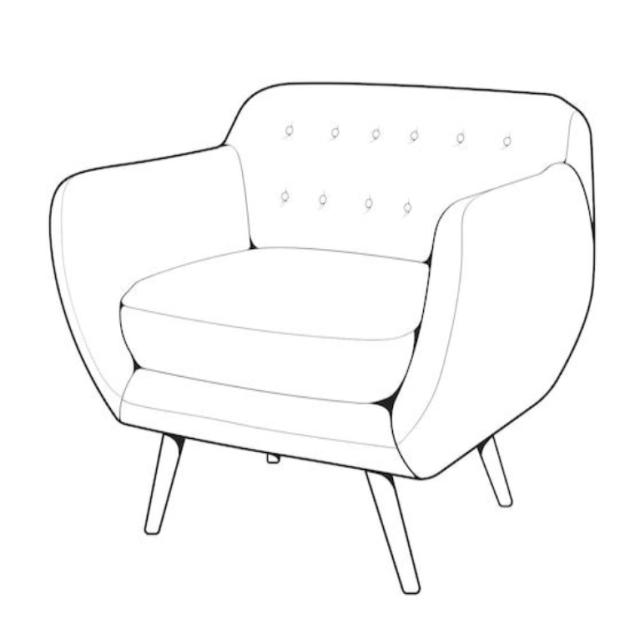Armrest: (389, 161, 597, 483), (47, 143, 254, 425)
Backrest: (220, 80, 595, 265)
Leg_Structure: (143, 430, 516, 596)
Seat: (119, 246, 432, 481)
